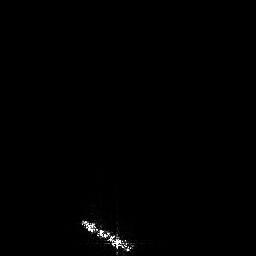ship: (79, 215, 137, 256)
